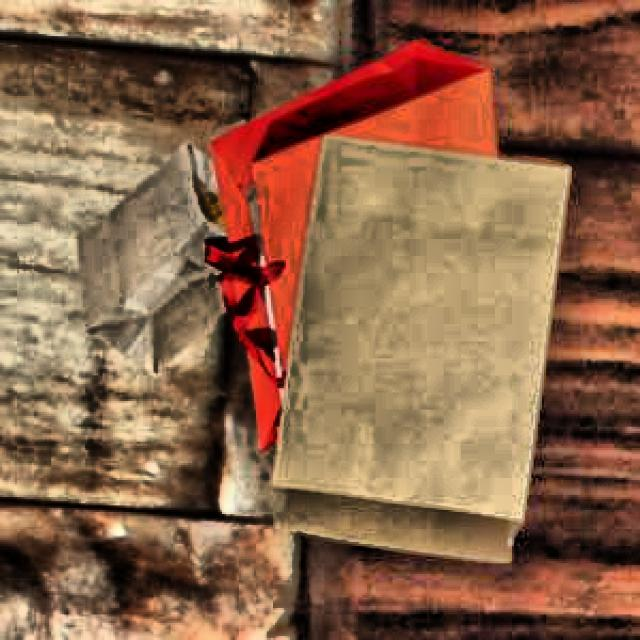Paper-bag: (264, 127, 575, 568), (208, 31, 517, 472), (58, 137, 244, 387)
